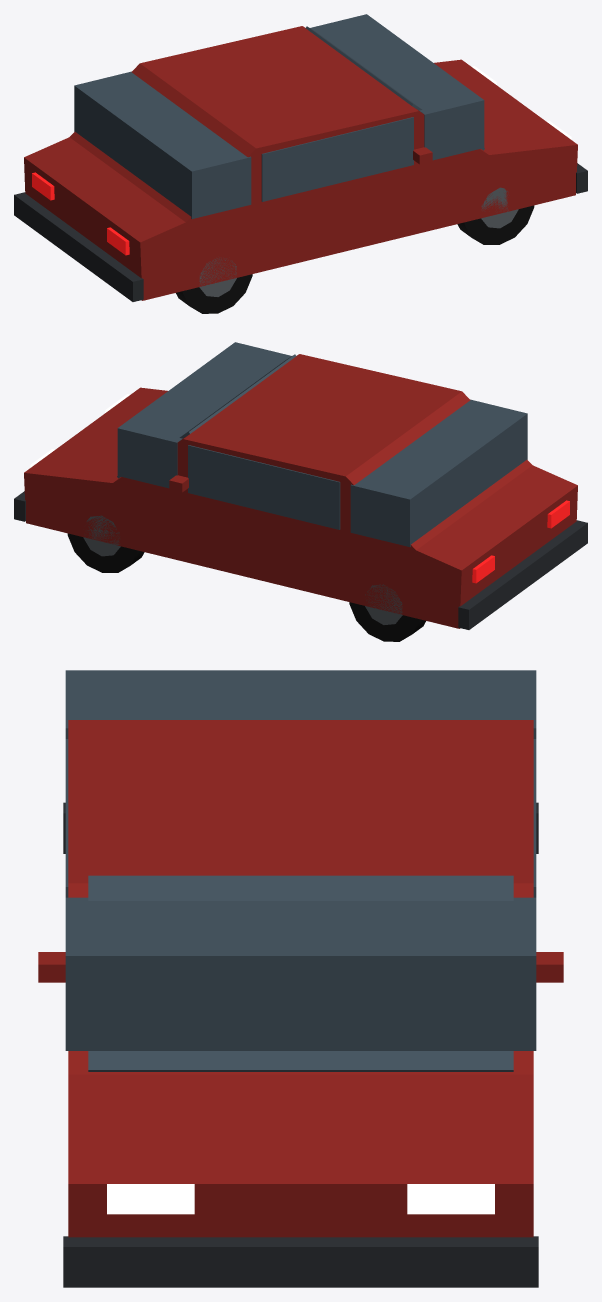
Rendered from cg-car-red.glb.
3 views of the same model, one above another, from view 1: azimuth 30°, elevation 25°; view 2: azimuth 150°, elevation 25°; view 3: azimuth 270°, elevation 25° (orthographic). The views are drawn at different scales.
Visible parts, largest first — view 1: cg-car-red; view 2: cg-car-red; view 3: cg-car-red.
Boxes of the visible parts, left/top/right/bottom form: cg-car-red: left=14, top=14, right=587, bottom=313; cg-car-red: left=14, top=342, right=587, bottom=641; cg-car-red: left=38, top=670, right=563, bottom=1287.
Bounding box in the file's own units: 4.2 × 1.39 × 2.1.
